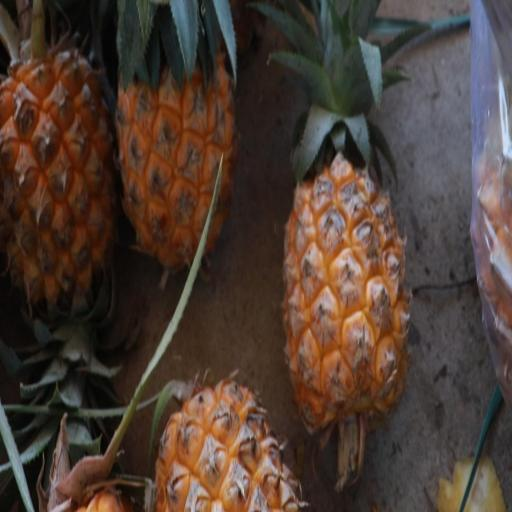Pineapple - v8 v1: (274, 135, 412, 439), (0, 0, 121, 326), (111, 4, 239, 286), (142, 369, 312, 512)
